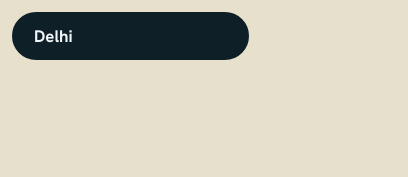
CityPicker › works from the keyboard: arrows move, Enter chooses, Escape restores
Later steps or results of the test are not shown.
Step 1. Replace the text in the dropdown named "city" with "pune" → point(130, 36), box [12,12,249,60]
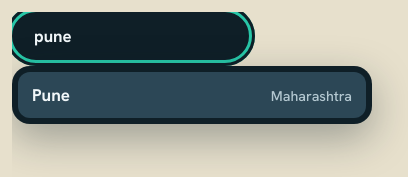
Step 2. Press Enter in the dropdown named "city", box [12,12,249,60]
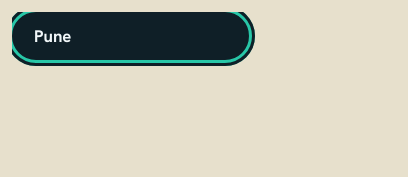
Expected: the dropdown named "city" is collapsed, [12,12,249,60]
